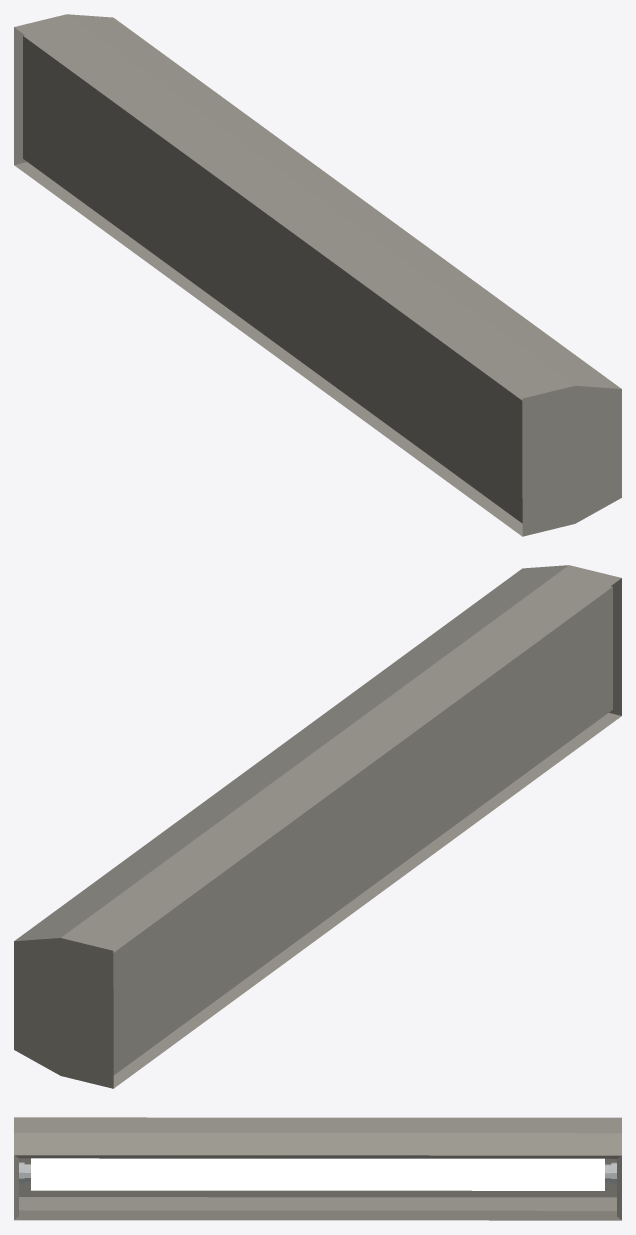
Rendered from corridor_light.glb.
3 views of the same model, one above another, from view 1: azimuth 30°, elevation 25°; view 2: azimuth 150°, elevation 25°; view 3: azimuth 270°, elevation 25° (orthographic). The views are drawn at different scales.
Visible parts, largest first — view 1: Light1-material; view 2: Light1-material; view 3: Light1-material, Light2-material.
Part boxes in pixels (x1,y1,x2,y2): Light1-material: [14, 14, 621, 536]; Light1-material: [14, 565, 621, 1088]; Light1-material: [14, 1117, 621, 1220]; Light2-material: [31, 1158, 604, 1190].
Size of the model in its own units: 0.0291 by 0.0387 by 0.2574.
2 materials, 2 textured.
